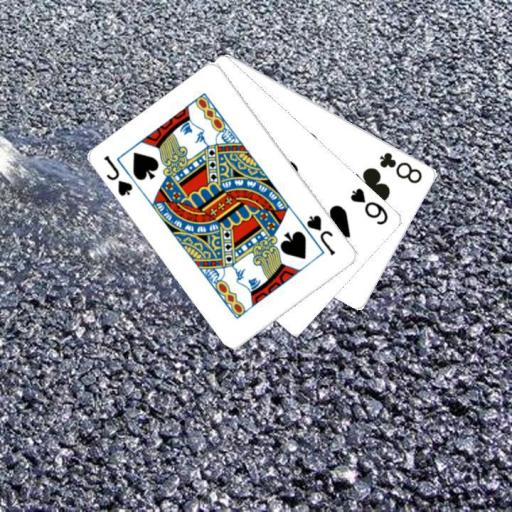6S: (347, 185, 391, 227)
8C: (377, 149, 425, 185)
JS: (100, 153, 135, 199), (304, 212, 338, 258)
